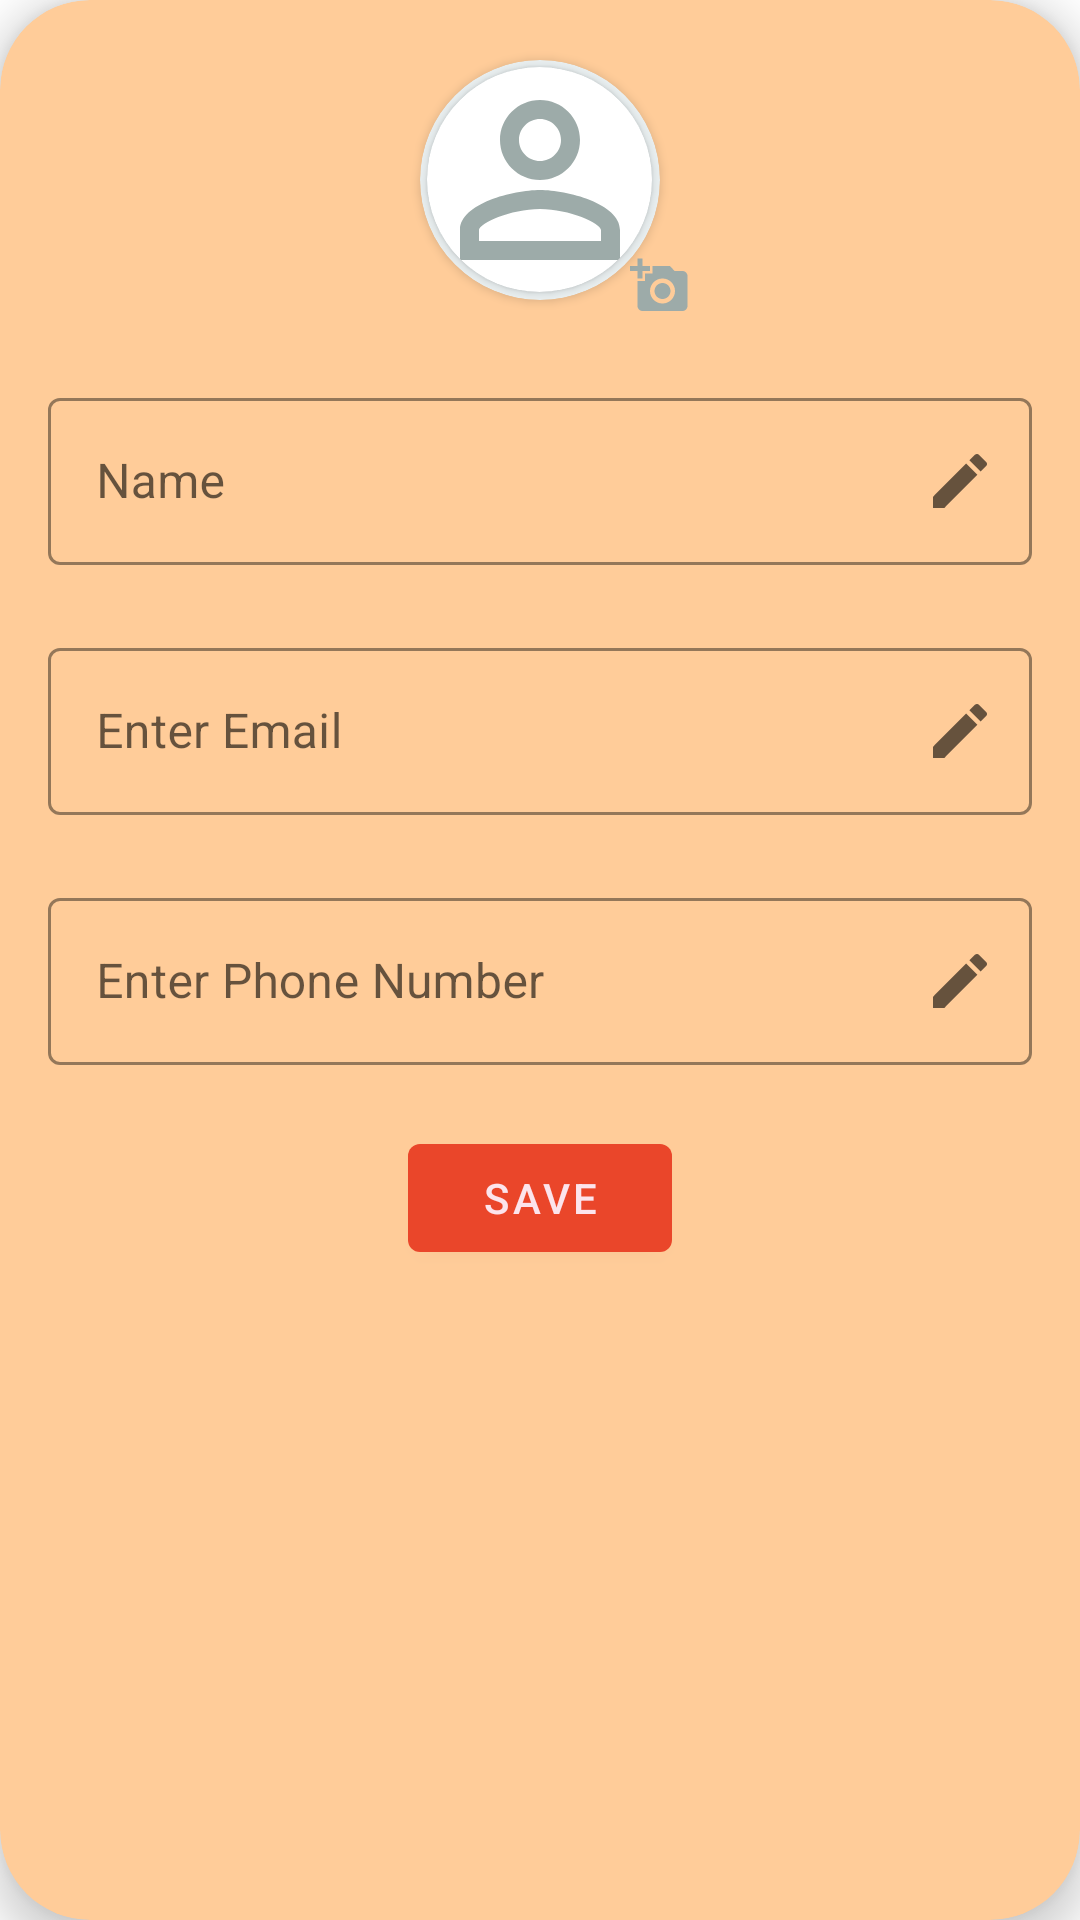

Locate icon controls on the screen. Image size 1080px x 1920px, boxes as box(x1, y1, x2, y2).
add photo: box(630, 258, 688, 311)
